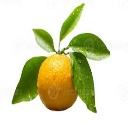orange: (36, 43, 83, 111)
